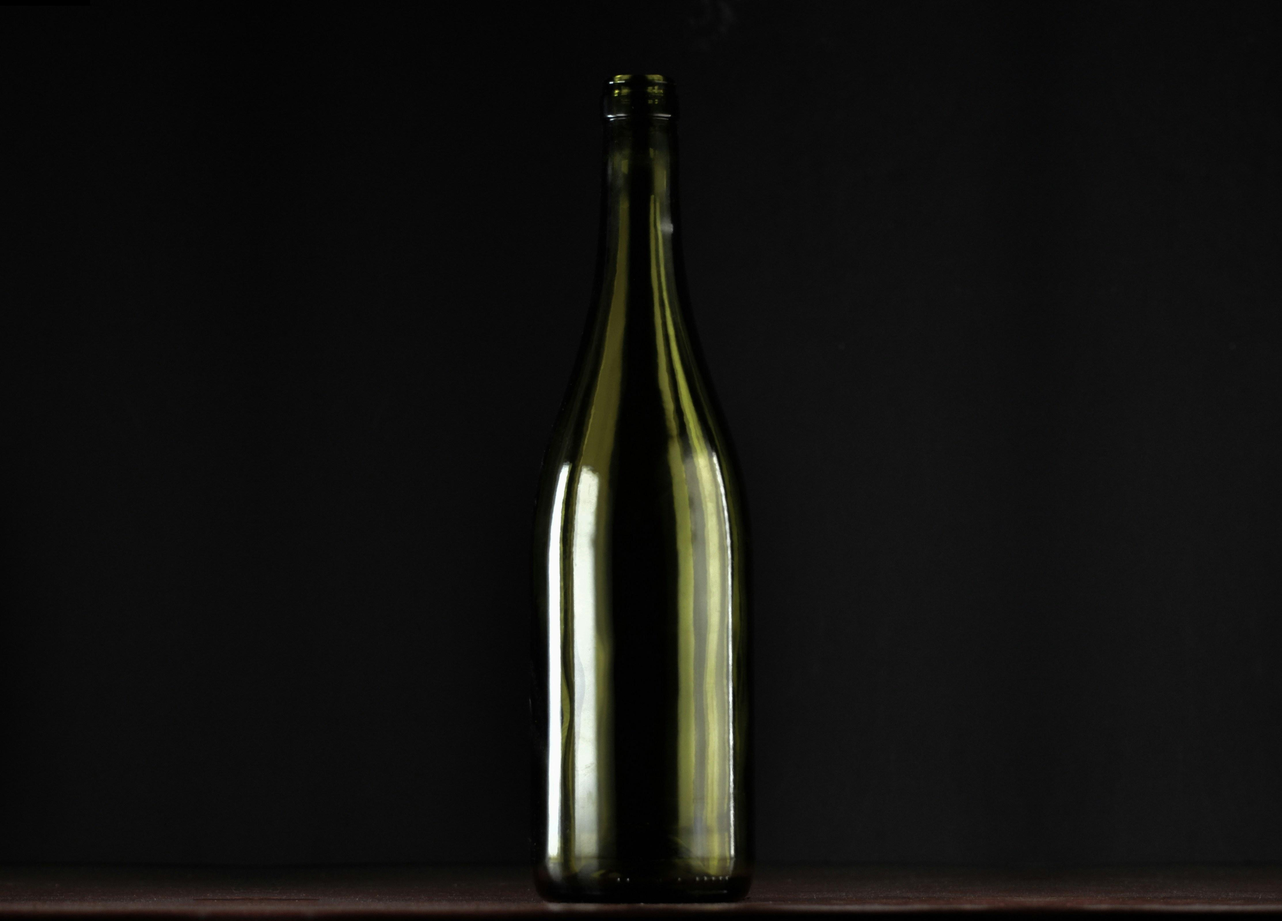Bottle-Detection: (417, 17, 910, 915)
